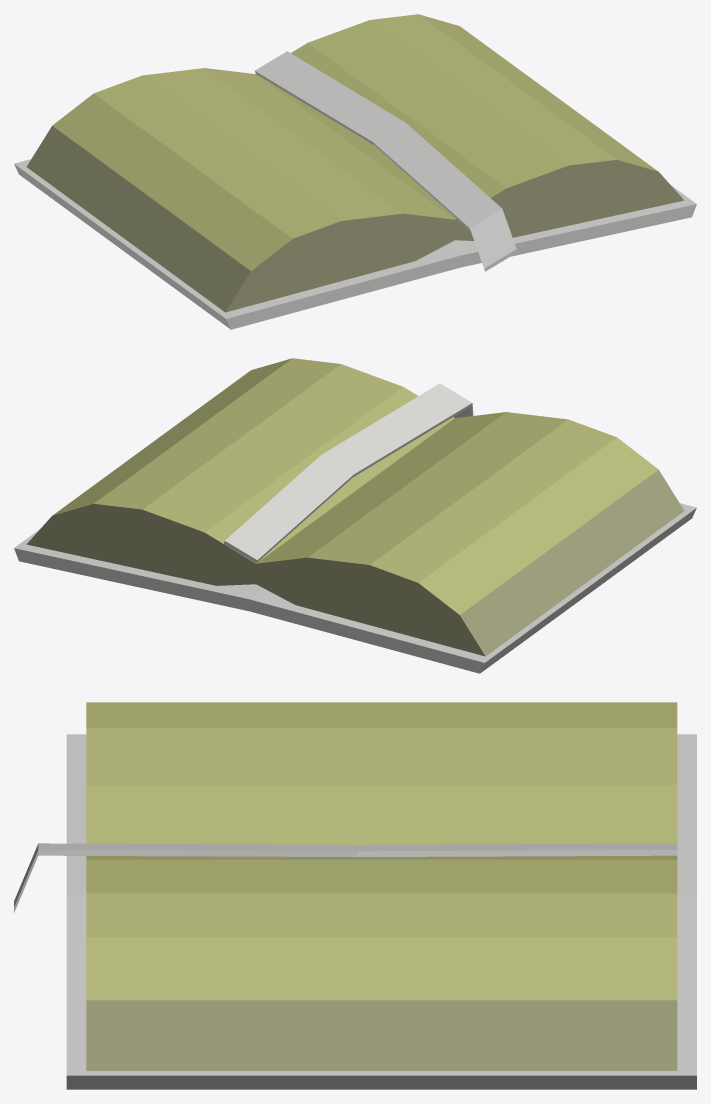
Rendered from Book_3_White.fbx.
3 renders of one model, top to bottom at view 1: azimuth 30°, elevation 25°; view 2: azimuth 150°, elevation 25°; view 3: azimuth 270°, elevation 25°, orthographic. The views are drawn at different scales.
Visible parts, largest first — view 1: Book_3_White_Part_2, Book_3_White_Part_1, Book_3_White_Part_4, Book_3_White_Part_3; view 2: Book_3_White_Part_2, Book_3_White_Part_1, Book_3_White_Part_3, Book_3_White_Part_4; view 3: Book_3_White_Part_2, Book_3_White_Part_1, Book_3_White_Part_3, Book_3_White_Part_4.
Part boxes in pixels (x1,y1,x2,y2): Book_3_White_Part_2: [52, 14, 657, 270]; Book_3_White_Part_1: [26, 126, 684, 312]; Book_3_White_Part_4: [255, 51, 517, 271]; Book_3_White_Part_3: [14, 159, 696, 329]; Book_3_White_Part_2: [53, 358, 658, 614]; Book_3_White_Part_1: [26, 470, 684, 656]; Book_3_White_Part_3: [14, 503, 696, 673]; Book_3_White_Part_4: [224, 383, 473, 563]; Book_3_White_Part_2: [86, 702, 677, 1000]; Book_3_White_Part_1: [86, 1000, 677, 1070]; Book_3_White_Part_3: [66, 734, 696, 1089]; Book_3_White_Part_4: [14, 843, 677, 912].
Bounding box in the file's own units: 41 × 6.27 × 34.68.
